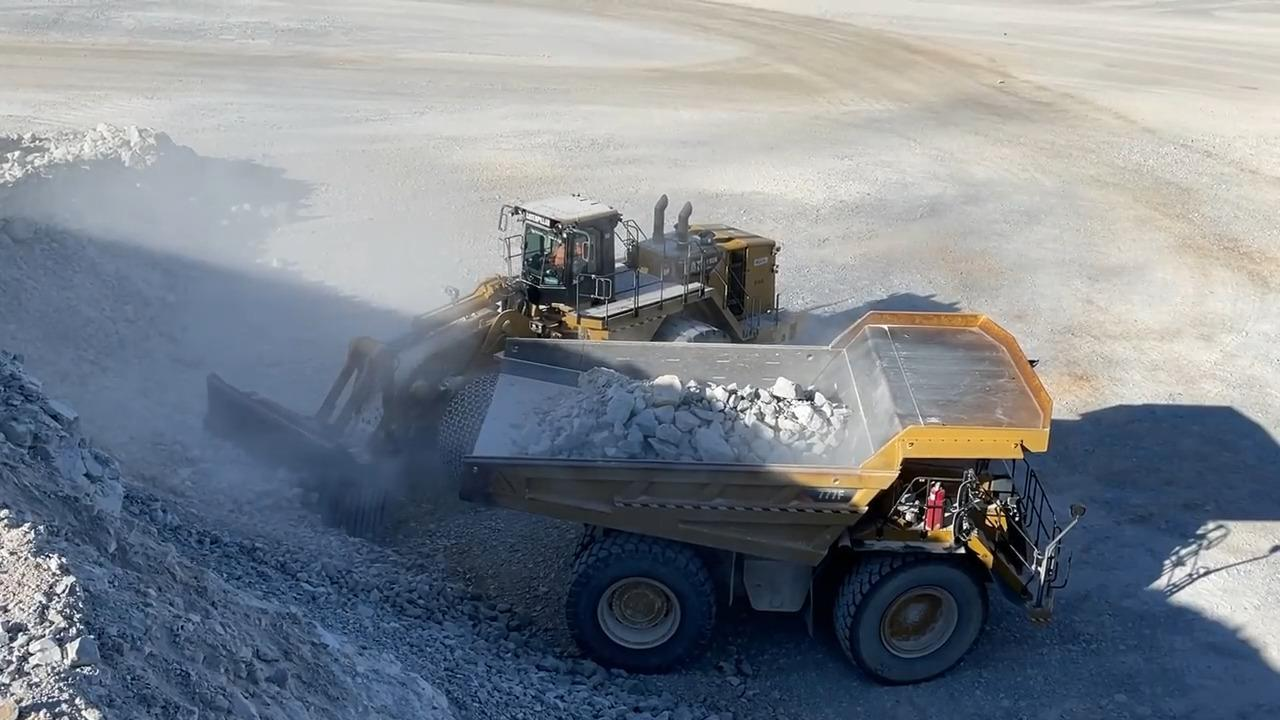dump truck: (452, 305, 1089, 685)
wheel loader: (199, 187, 784, 531)
